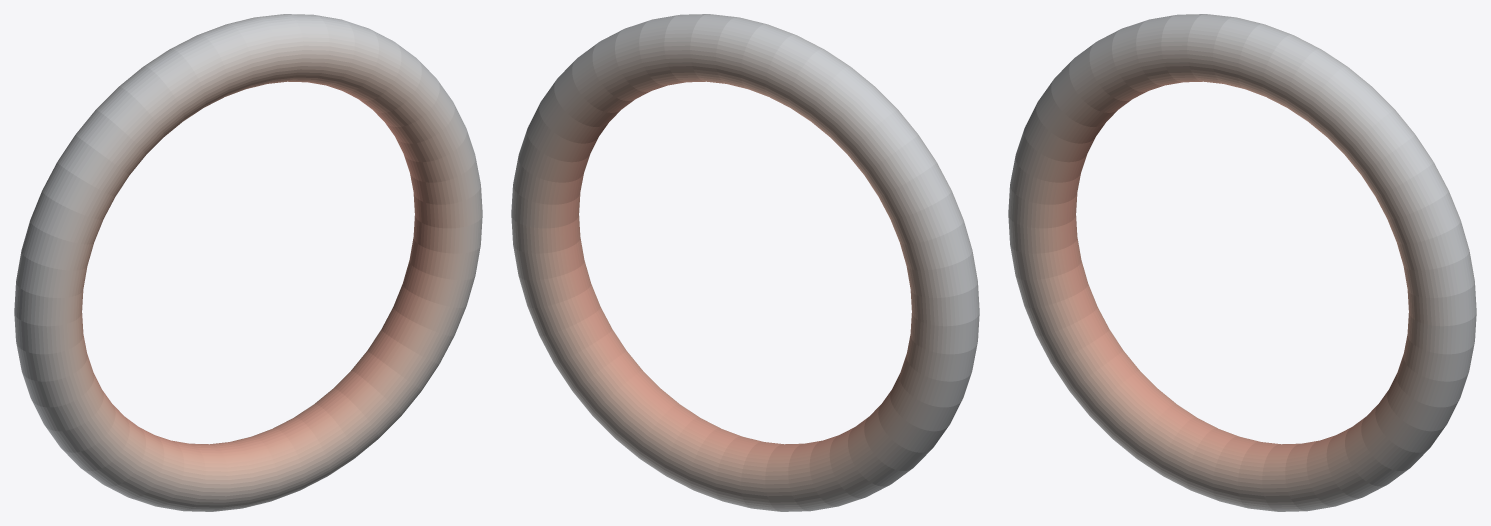
3 views of the same model, side by side, from view 1: azimuth 30°, elevation 25°; view 2: azimuth 150°, elevation 25°; view 3: azimuth 330°, elevation 25° (orthographic).
Parts seen in each view (by area): view 1: world; view 2: world; view 3: world.
Part boxes in pixels (bbox=[...]): world: bbox=[14, 14, 482, 511]; world: bbox=[511, 14, 979, 511]; world: bbox=[1008, 14, 1476, 511].
Size of the model in its own units: 34.4 by 34.33 by 4.39.
